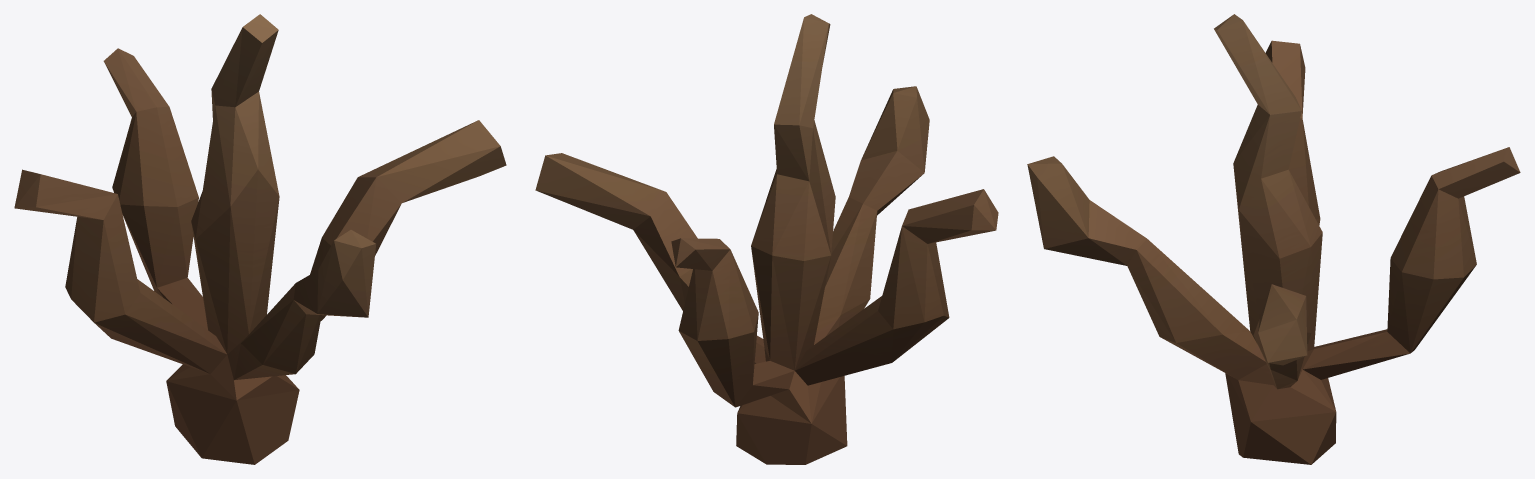
The model's file is bush.glb.
3 renders of one model, left to right at view 1: azimuth 30°, elevation 25°; view 2: azimuth 150°, elevation 25°; view 3: azimuth 270°, elevation 25°, orthographic. The views are drawn at different scales.
Visible parts, largest first — view 1: Vert; view 2: Vert; view 3: Vert.
Part boxes in pixels (x1,y1,x2,y2): Vert: (14, 14, 506, 464); Vert: (535, 14, 998, 464); Vert: (1027, 14, 1520, 464).
Bounding box in the file's own units: 1.21 × 1.07 × 1.09.
Materials: 1 (1 with a texture image).
